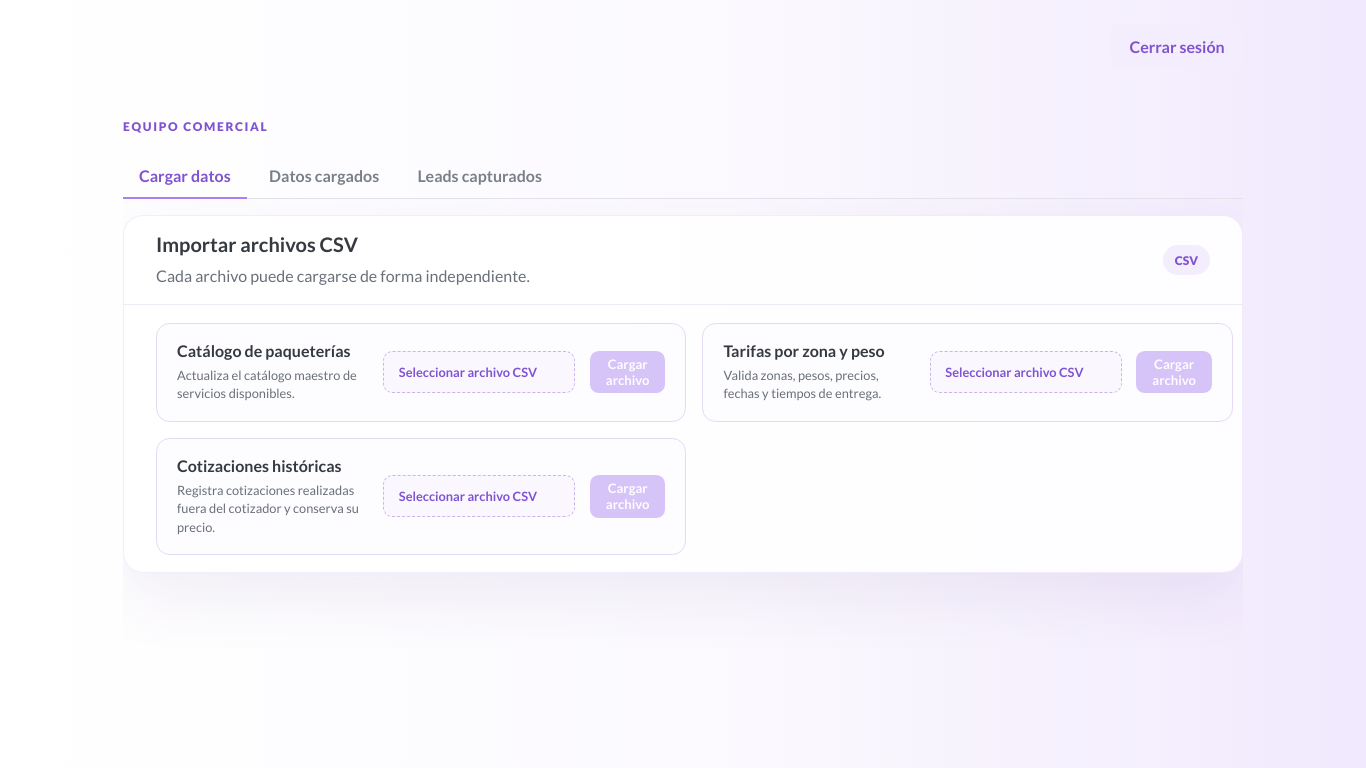
Test: App › shows the captured leads section with an empty state
What coordinates should you click on to do the following:
click the button "Leads capturados"
I would click on:
 (480, 175)
Its box is [402,153,558,198].
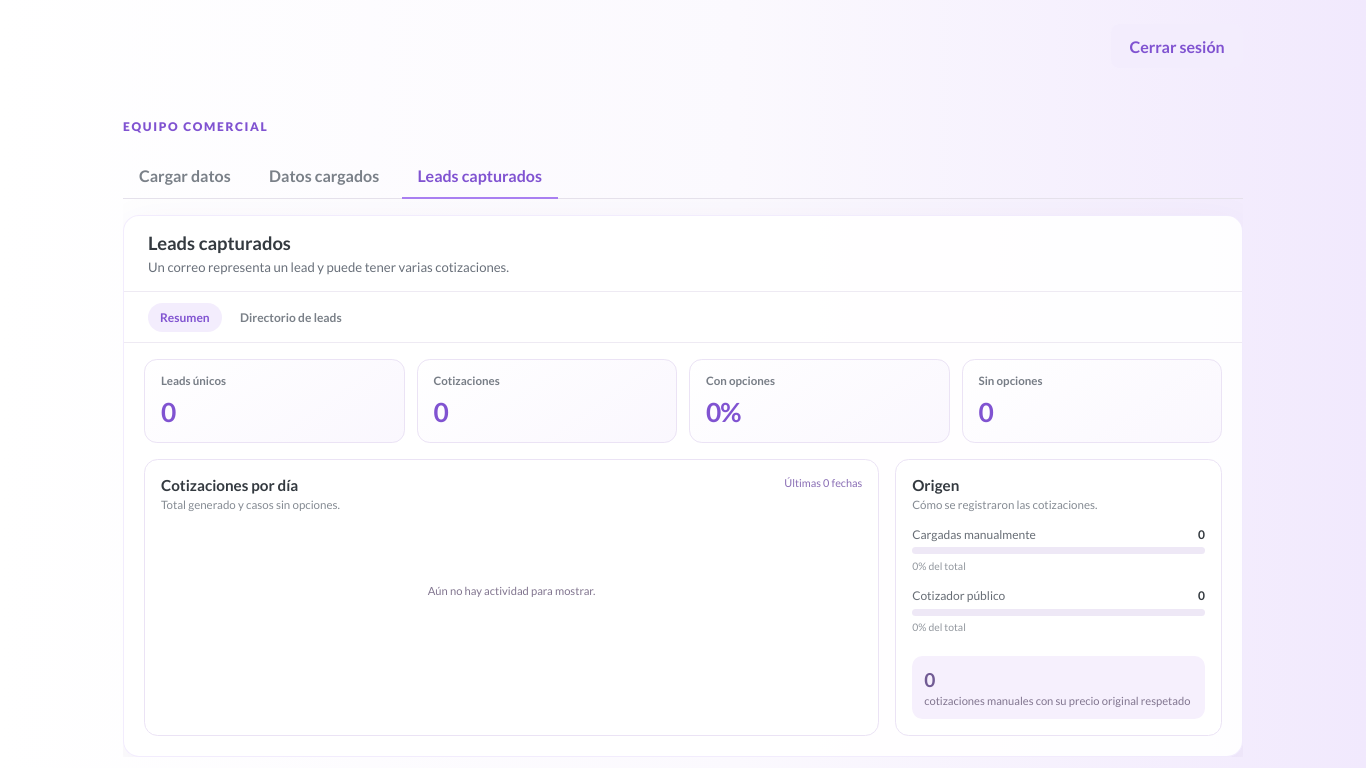
Expected: the text "Cargadas manualmente" is shown, [912,527,1036,542]
Expected: the text "cotizaciones manuales con su precio original respetado" is shown, [924,694,1193,707]
What coordinates should you click on to do the following:
click the button "Directorio de leads"
I would click on:
 (291, 317)
Its box is [228,303,354,332].
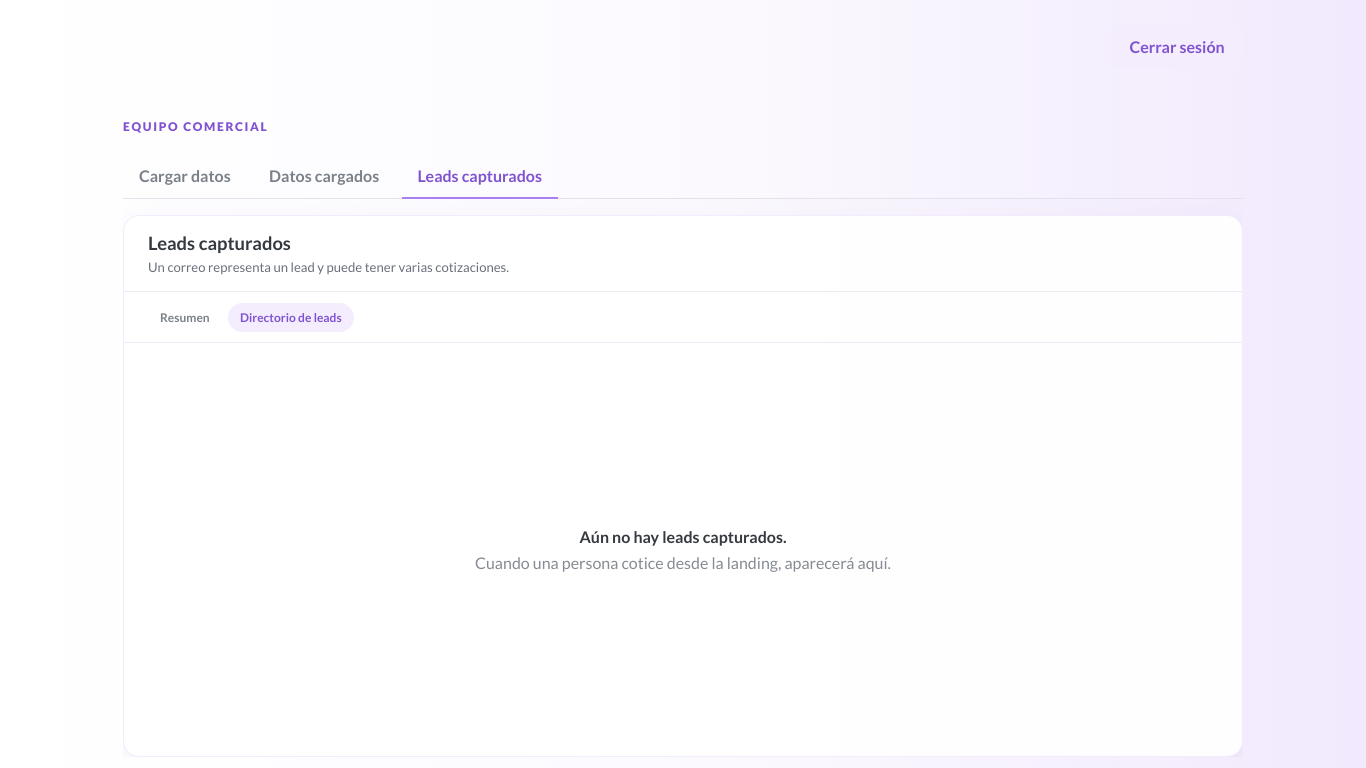
Expected: the text "Aún no hay leads capturados." is shown, [580,527,786,546]
Expected: the text "Cuando una persona cotice desde la landing, aparecerá aquí." is shown, [475,553,891,572]
